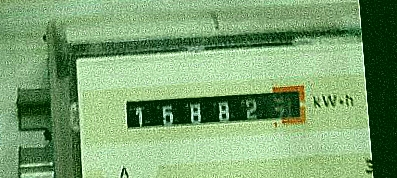1: (131, 104, 147, 127)
2: (242, 96, 260, 122)
5: (159, 101, 175, 127)
7: (272, 101, 286, 119)
8: (215, 99, 231, 124), (187, 101, 202, 125)
screen: (115, 76, 316, 147)
